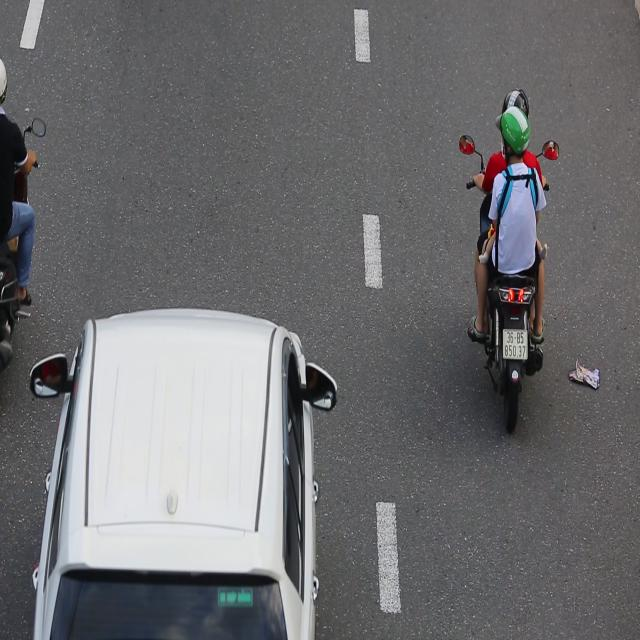motorbike: (458, 87, 558, 442)
